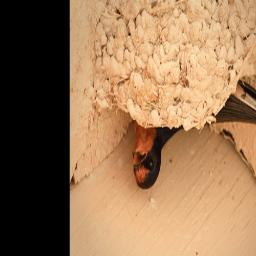Swallow: (131, 67, 256, 193)
